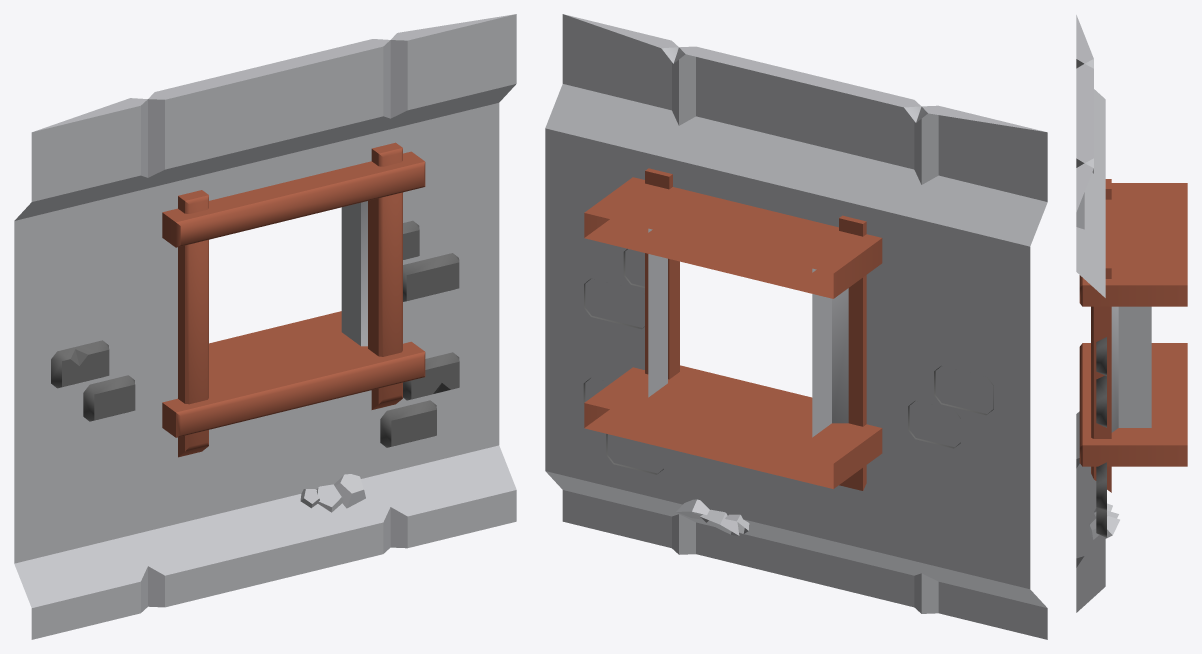
The model's file is Wall_Window_Open.fbx.
The picture shows the model from 3 angles, left to right: view 1: azimuth 30°, elevation 25°; view 2: azimuth 150°, elevation 25°; view 3: azimuth 270°, elevation 25°; orthographic projection. The views are drawn at different scales.
Visible parts, largest first — view 1: Wall_Window_Open; view 2: Wall_Window_Open; view 3: Wall_Window_Open.
Boxes of the visible parts, x1,y1,x2,y2 form: Wall_Window_Open: (14,14,516,639); Wall_Window_Open: (545,14,1047,639); Wall_Window_Open: (1076,15,1187,612).
Bounding box in the file's own units: 1.47 × 1.47 × 0.3486.
Materials: 1 (1 with a texture image).
